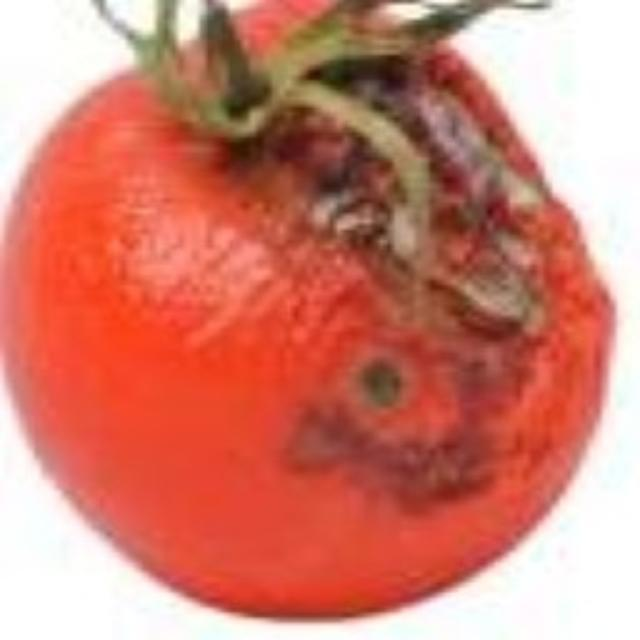defect: (3, 0, 613, 616)
